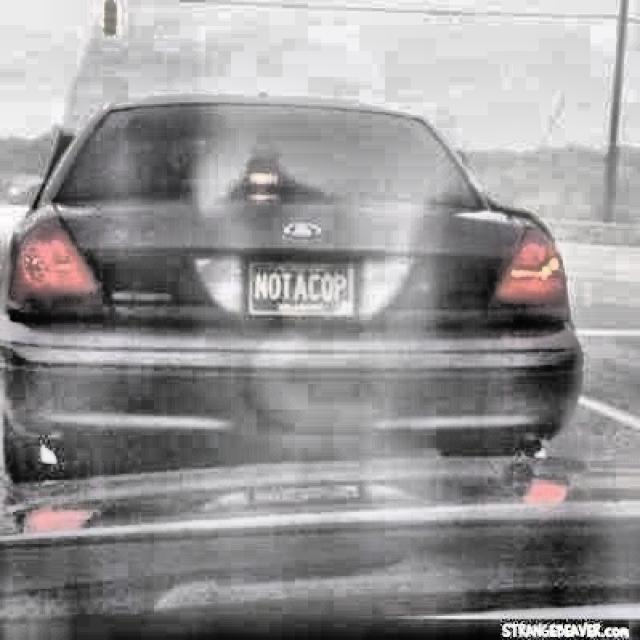license_plate: (245, 259, 357, 314)
